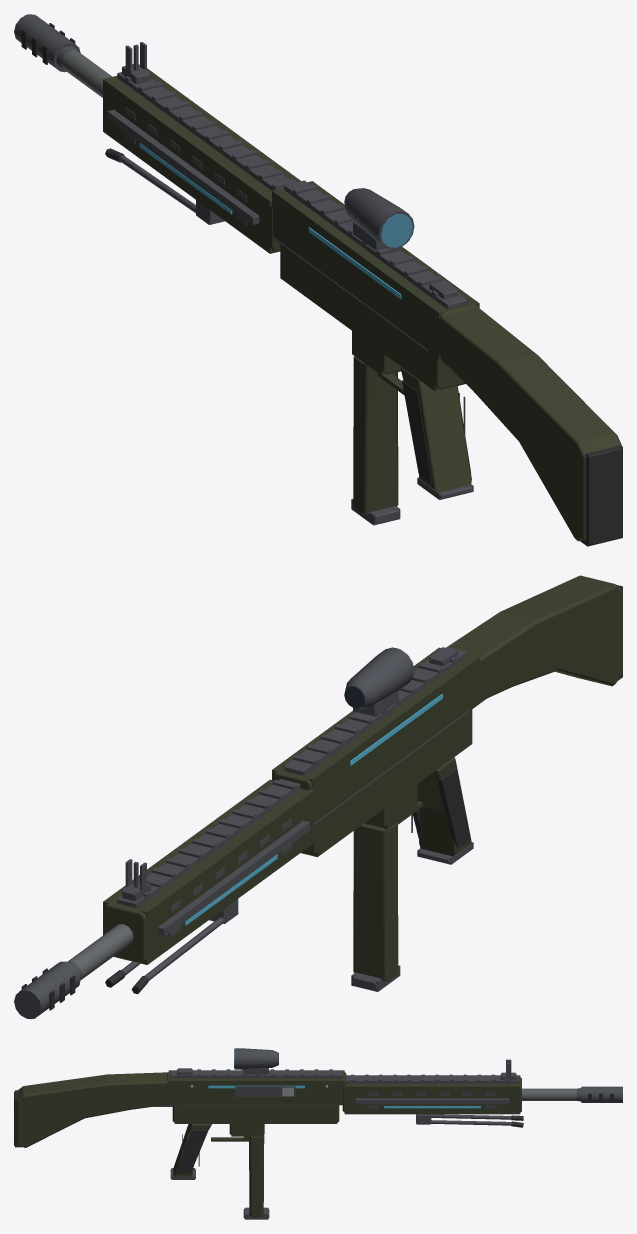
File: battle.glb
3 renders of one model, top to bottom at view 1: azimuth 30°, elevation 25°; view 2: azimuth 150°, elevation 25°; view 3: azimuth 270°, elevation 25°, orthographic. The views are drawn at different scales.
Parts seen in each view (by area): view 1: L0, L1; view 2: L0, L1; view 3: L0, L1.
Part boxes in pixels (bbox=[...]): L0: bbox=[14, 14, 622, 545]; L1: bbox=[15, 15, 622, 546]; L0: bbox=[14, 575, 622, 1018]; L1: bbox=[14, 585, 622, 1019]; L0: bbox=[14, 1048, 622, 1218]; L1: bbox=[15, 1049, 622, 1219].
Bounding box in the file's own units: 0.06 × 0.3145 × 1.04.
